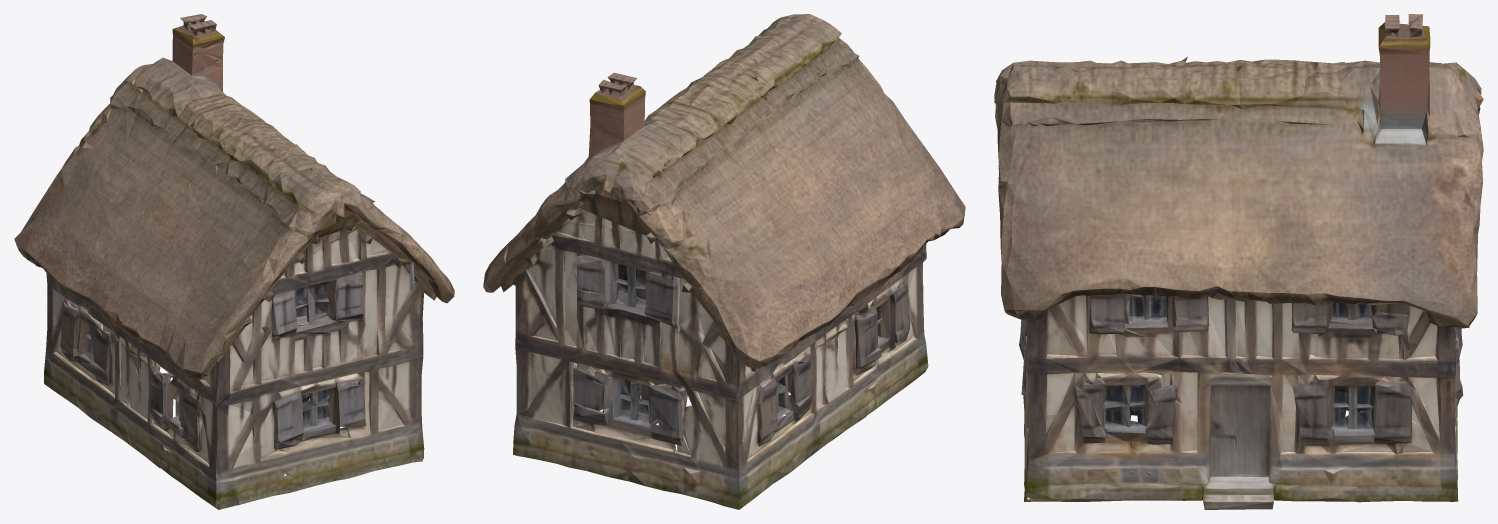
Rendered from house_normandy.obj.
The picture shows the model from 3 angles, left to right: view 1: azimuth 30°, elevation 25°; view 2: azimuth 150°, elevation 25°; view 3: azimuth 270°, elevation 25°; orthographic projection. The views are drawn at different scales.
Visible parts, largest first — view 1: house_normandy; view 2: house_normandy; view 3: house_normandy.
Part boxes in pixels (x1,y1,x2,y2): house_normandy: (14,14,454,509); house_normandy: (483,14,965,509); house_normandy: (994,14,1483,509).
Size of the model in its own units: 8.87 by 10.83 by 11.
Materials: 1 (1 with a texture image).
